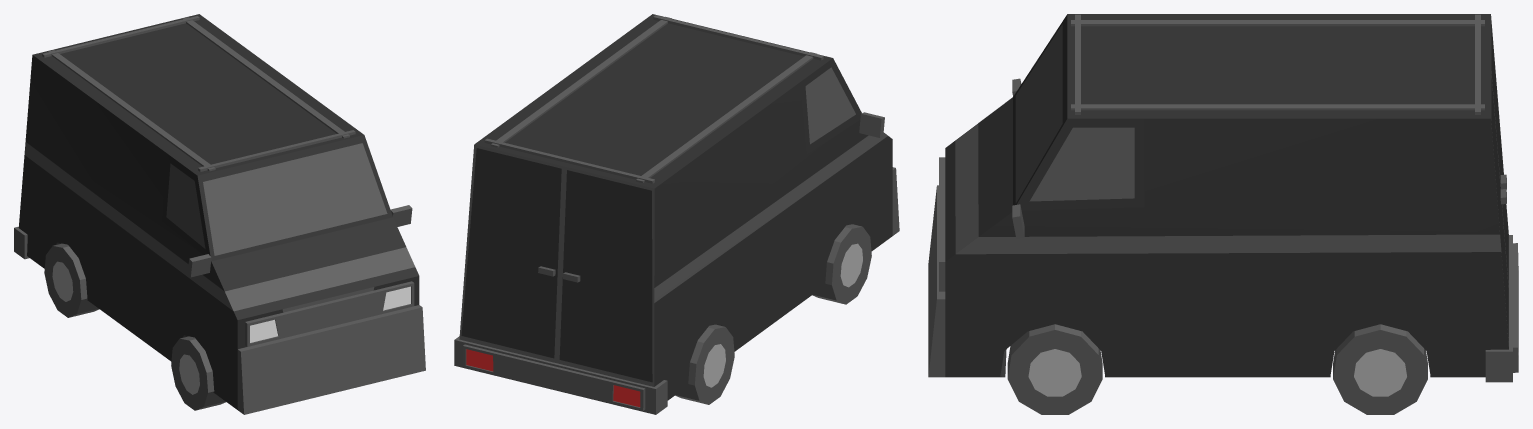
File: SM_Car_04_04.FBX
3 renders of one model, left to right at view 1: azimuth 30°, elevation 25°; view 2: azimuth 150°, elevation 25°; view 3: azimuth 270°, elevation 25°, orthographic. The views are drawn at different scales.
Visible parts, largest first — view 1: SM_Car_04_04, SM_Wheel_RBack001, SM_Wheel_LFront002; view 2: SM_Car_04_04, SM_Wheel_RBack001, SM_Wheel_LFront002; view 3: SM_Car_04_04, SM_Wheel_LFront001, SM_Wheel_LBack001.
Boxes of the visible parts, x1,y1,x2,y2 form: SM_Car_04_04: (14,14,425,414); SM_Wheel_RBack001: (44,243,99,317); SM_Wheel_LFront002: (171,336,225,410); SM_Car_04_04: (454,14,899,414); SM_Wheel_RBack001: (675,324,734,404); SM_Wheel_LFront002: (812,224,871,304); SM_Car_04_04: (928,14,1518,382); SM_Wheel_LFront001: (1007,324,1102,414); SM_Wheel_LBack001: (1333,324,1427,414).
Size of the model in its own units: 1.7 by 1.68 by 3.08.
1 material, 1 textured.
